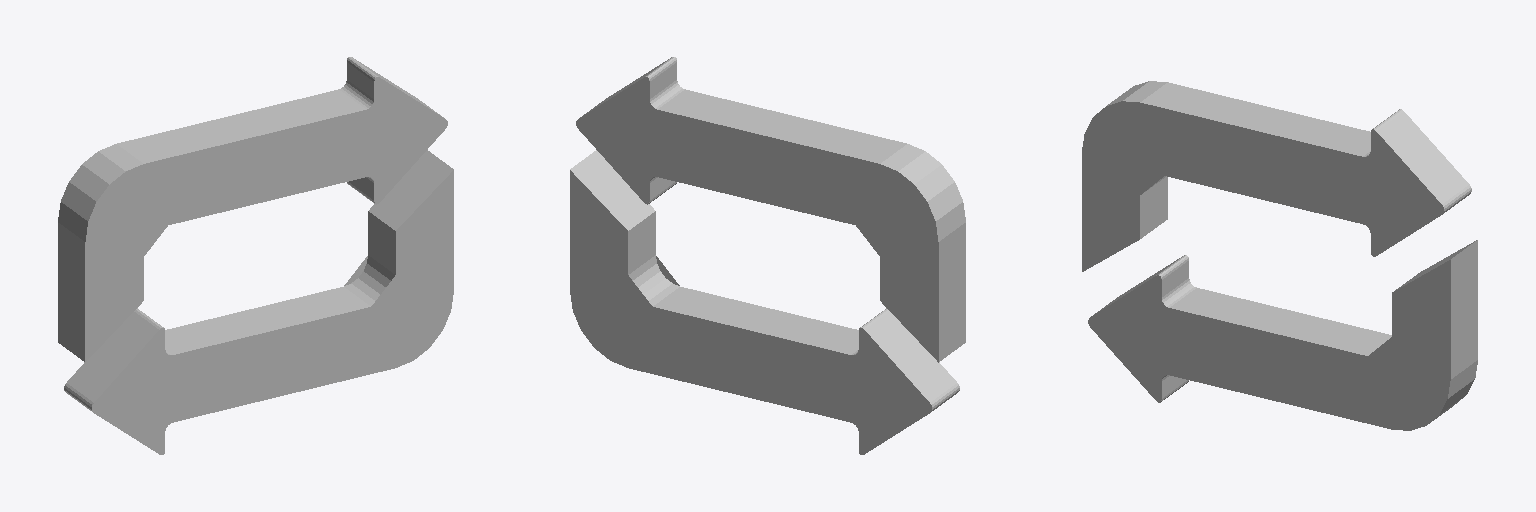
File: Arrow_50.obj
3 views of the same model, side by side, from view 1: azimuth 30°, elevation 25°; view 2: azimuth 150°, elevation 25°; view 3: azimuth 330°, elevation 25° (orthographic).
Visible parts, largest first — view 1: Arrow_50; view 2: Arrow_50; view 3: Arrow_50.
Boxes of the visible parts, x1=… form: Arrow_50: x1=58, y1=57, x2=453, y2=454; Arrow_50: x1=570, y1=57, x2=965, y2=454; Arrow_50: x1=1082, y1=81, x2=1477, y2=430.
Size of the model in its own units: 5.72 by 4.83 by 0.7423.